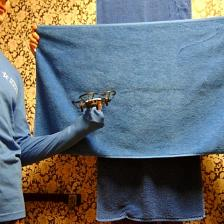drone: (73, 90, 116, 114)
